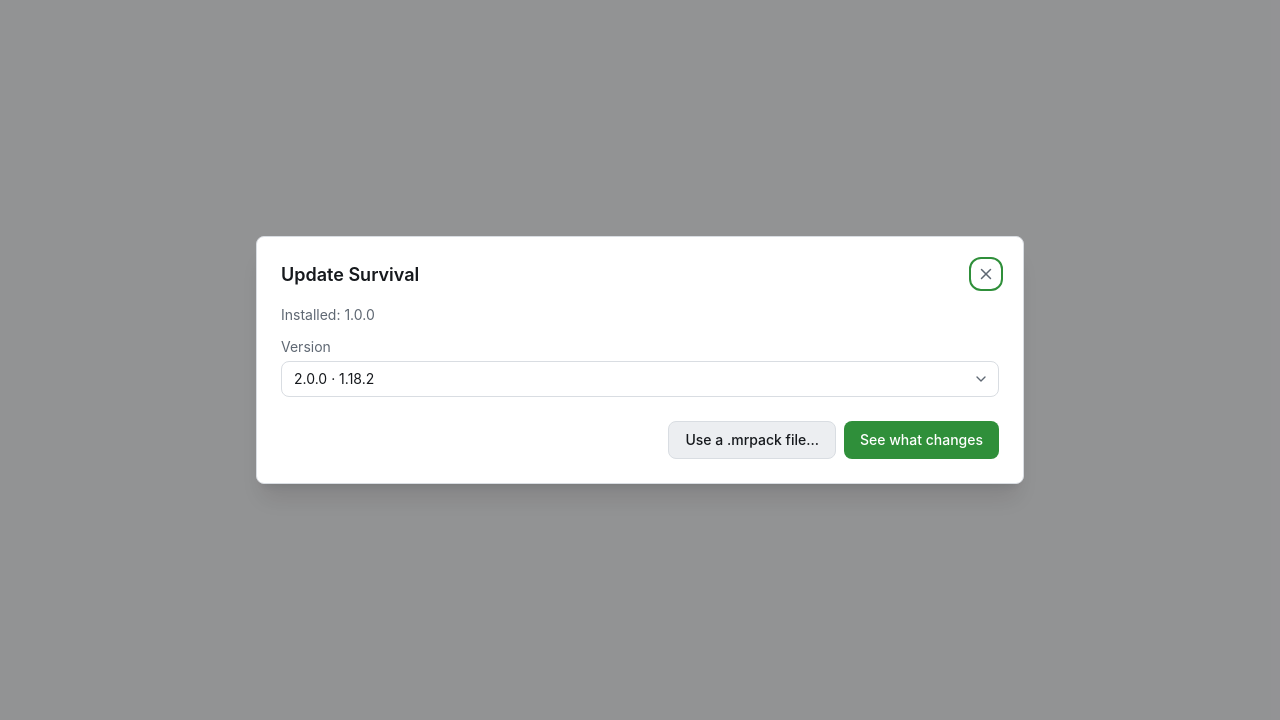
Test: UpdateModpackDialog › shows what changes and replaces only the chosen files of the user's
Click the button "See what changes" at coordinates (922, 440), box [844, 421, 999, 459]
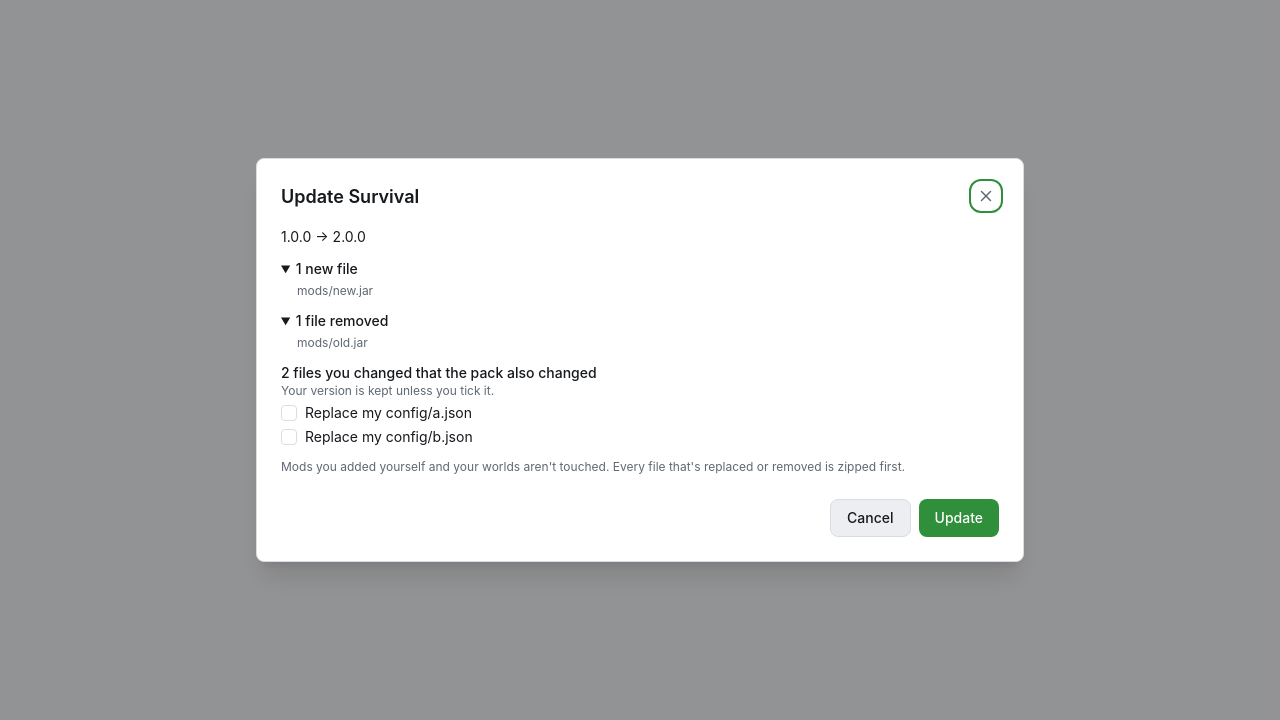
Now the text "1.0.0 → 2.0.0" is shown, box [281, 228, 366, 245]
Now the heading "1 new file" is shown, box [296, 260, 358, 277]
Now the heading "1 file removed" is shown, box [296, 312, 388, 329]
Click the checkbox named "Replace my config/b.json" next to "Replace my config/b.json" at coordinates (289, 437), box [281, 429, 297, 445]
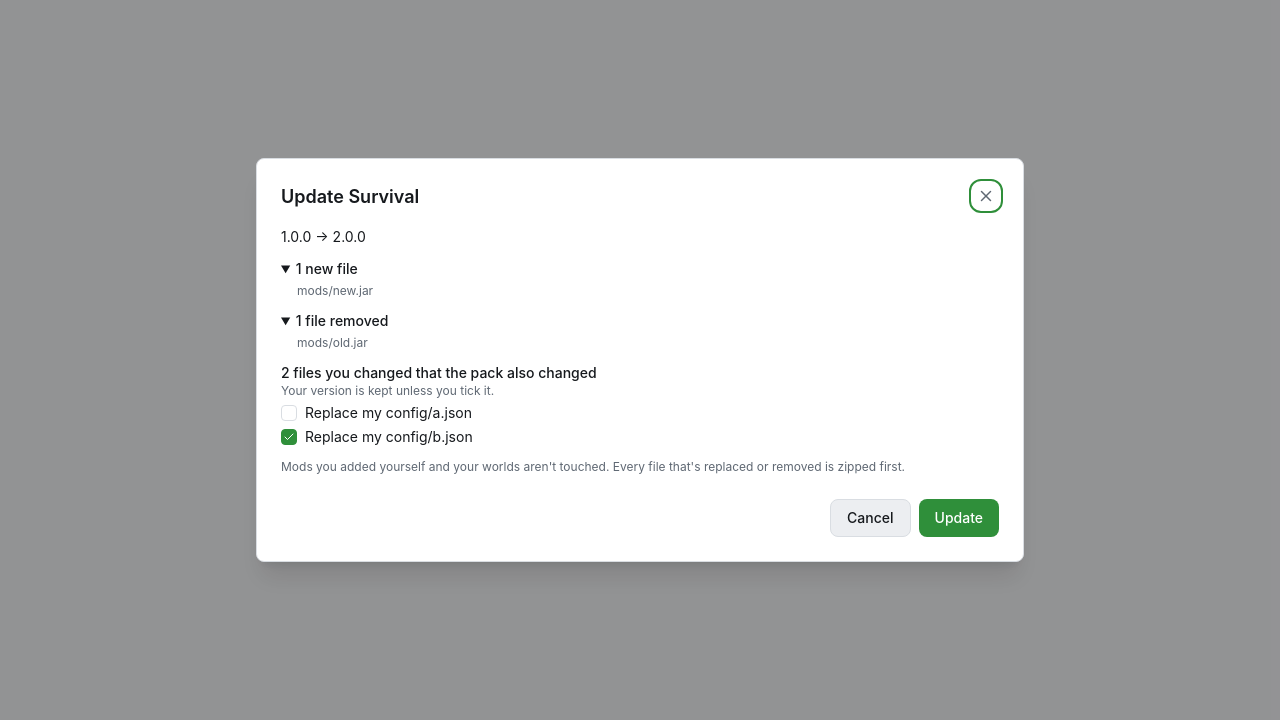
Click the button "Update" at coordinates (959, 518), box [918, 499, 999, 537]
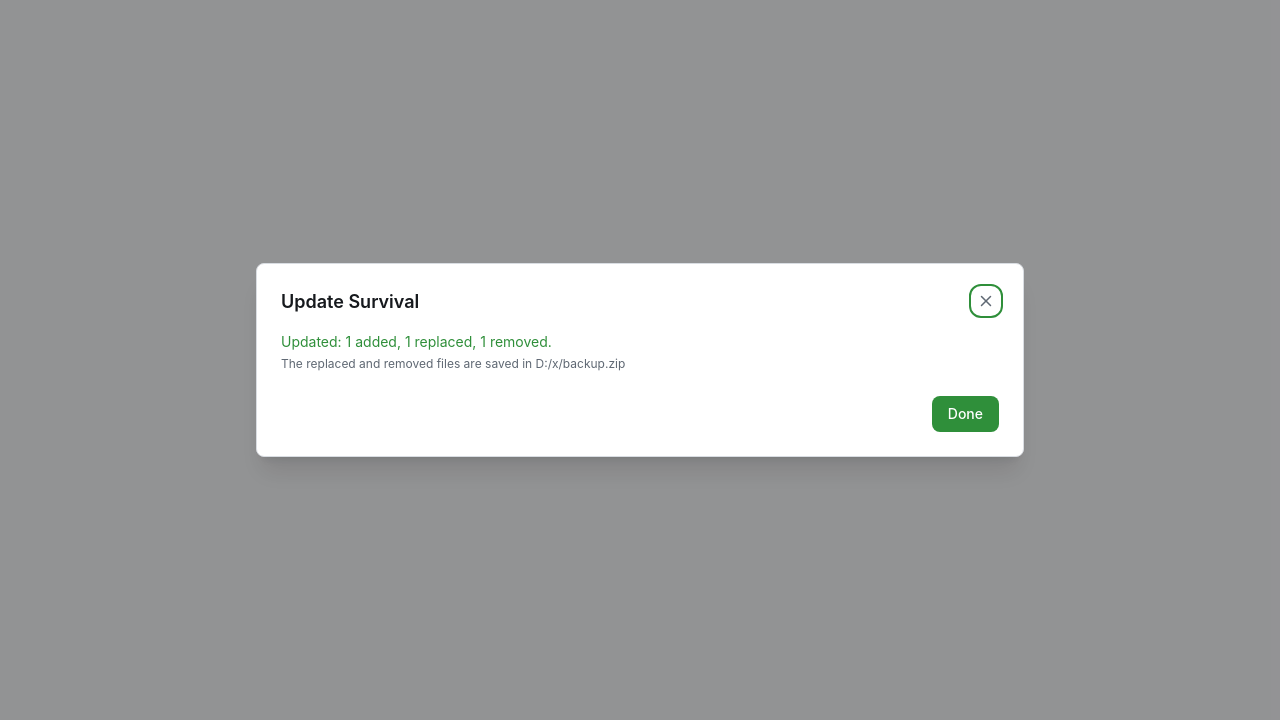
Now the text "Updated: 1 added, 1 replaced, 1 removed." is shown, box [281, 333, 552, 350]
